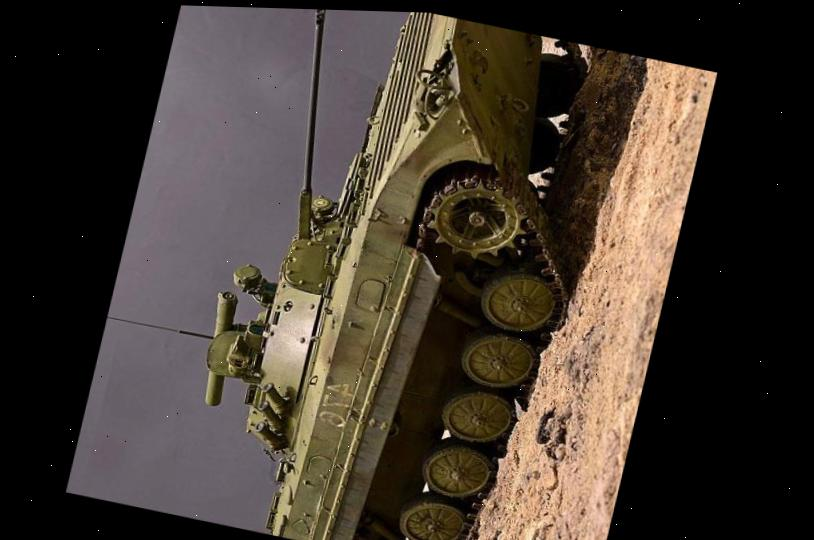tank: (161, 6, 632, 540)
